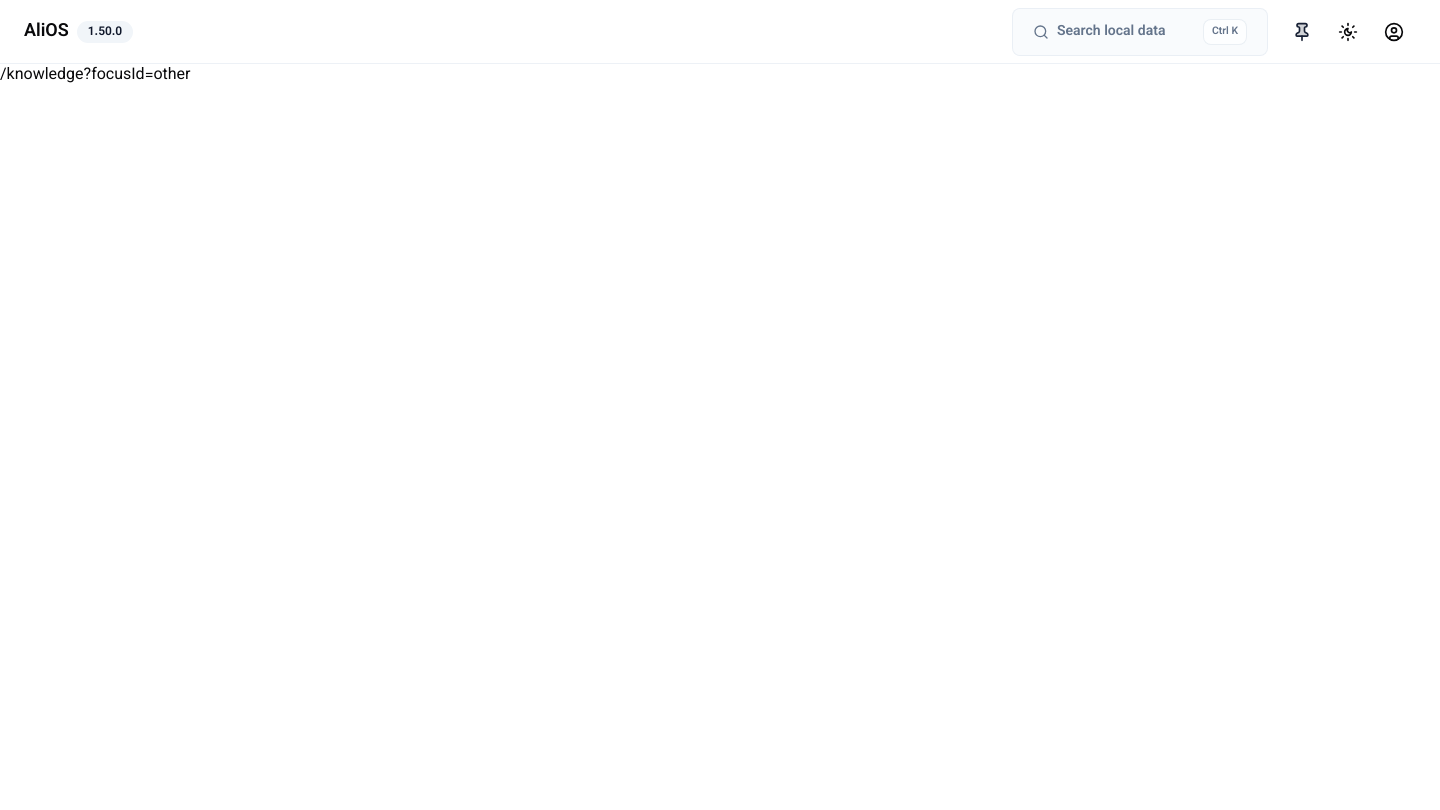
Test case: global Quick Access › navigates to the resolved Knowledge record, closes, and marks only matching record links current
Click the button named "Open Quick Access" at (1302,32), box [1280,10,1324,54]
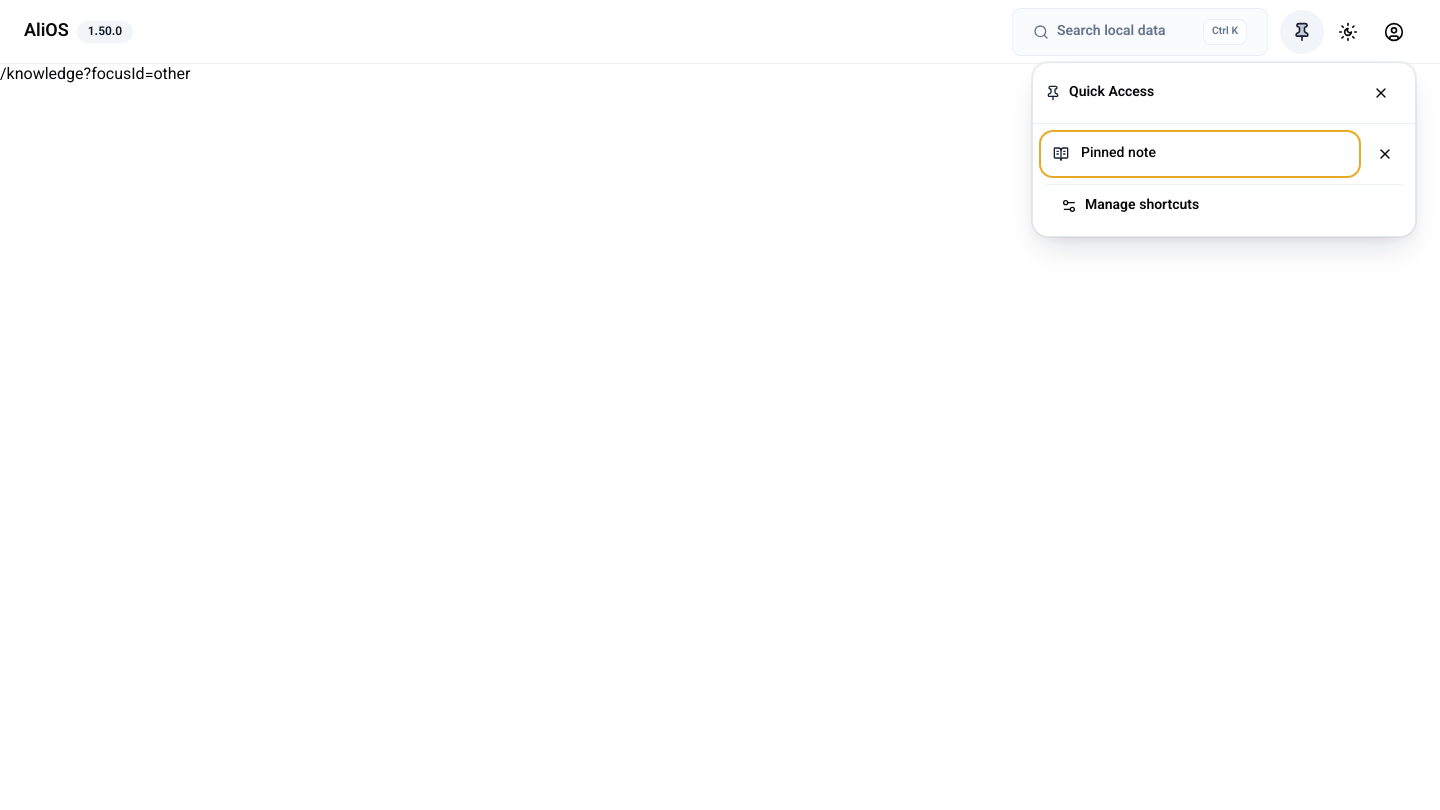
Now the link "Pinned note" is shown
Click the link "Pinned note" at (1119,154), box [1041,132,1359,176]
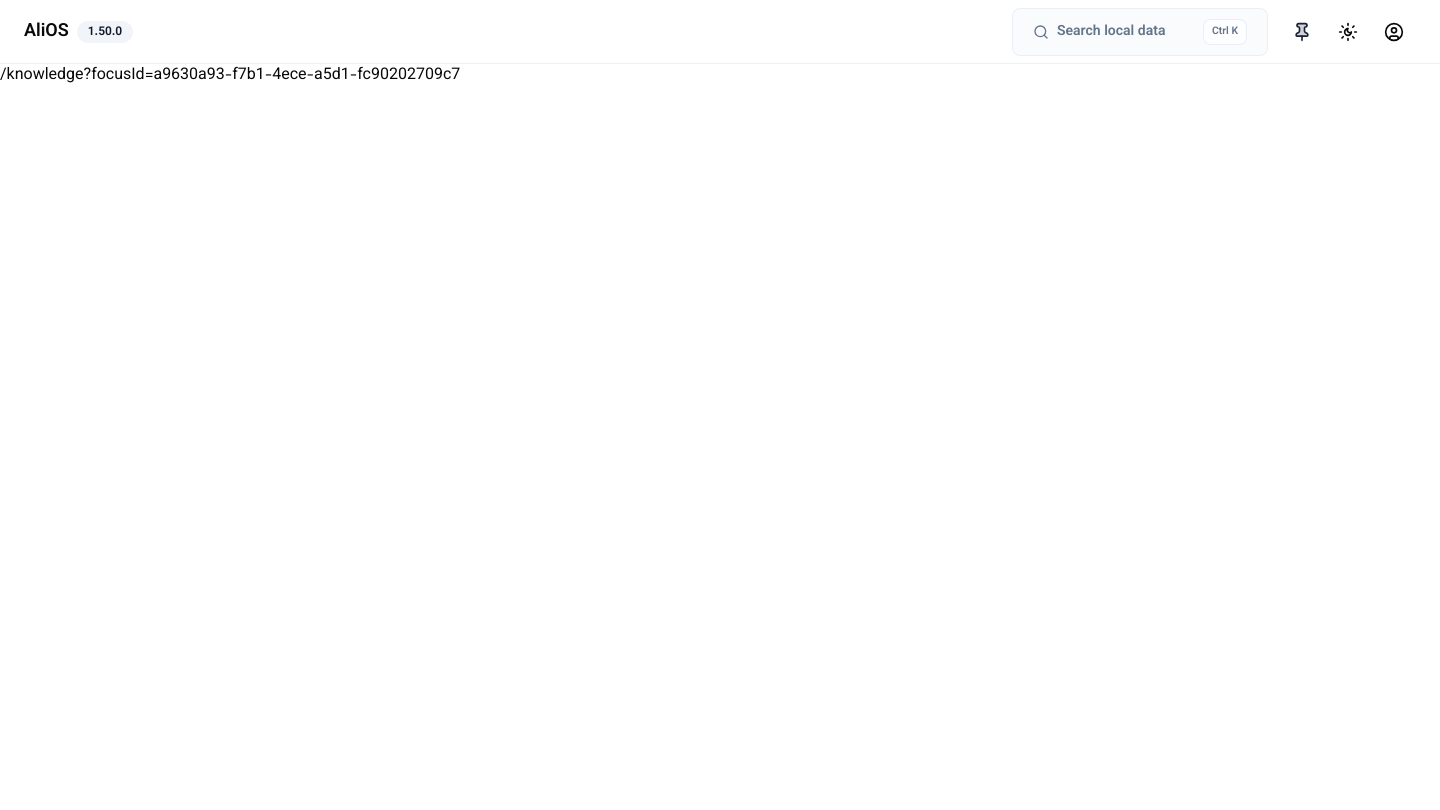
Now the dialog with id "topbar-quick-access" is gone
Click the button named "Open Quick Access" at (1302,32), box [1280,10,1324,54]
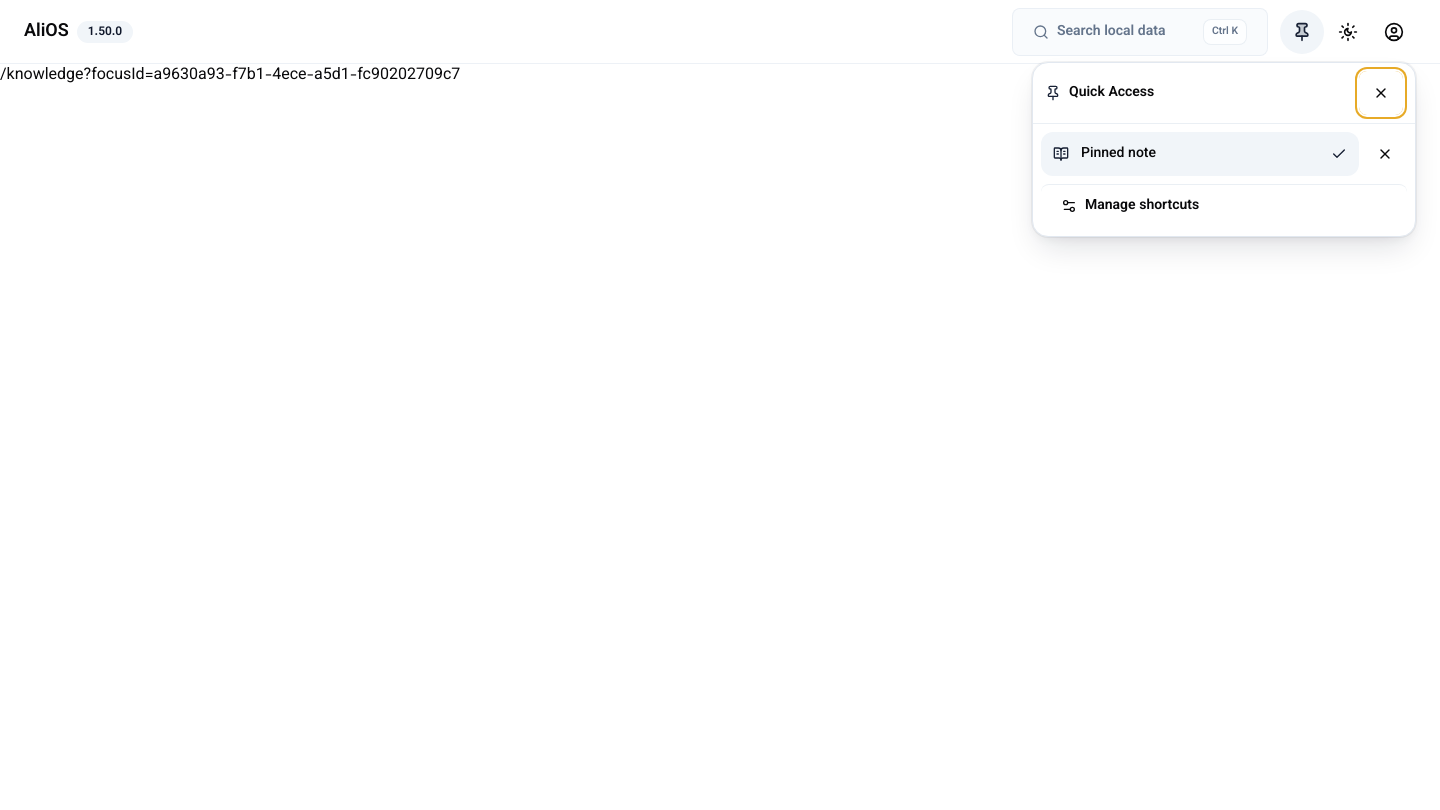
Now the link "Pinned note" is shown, box [1041,132,1359,176]
